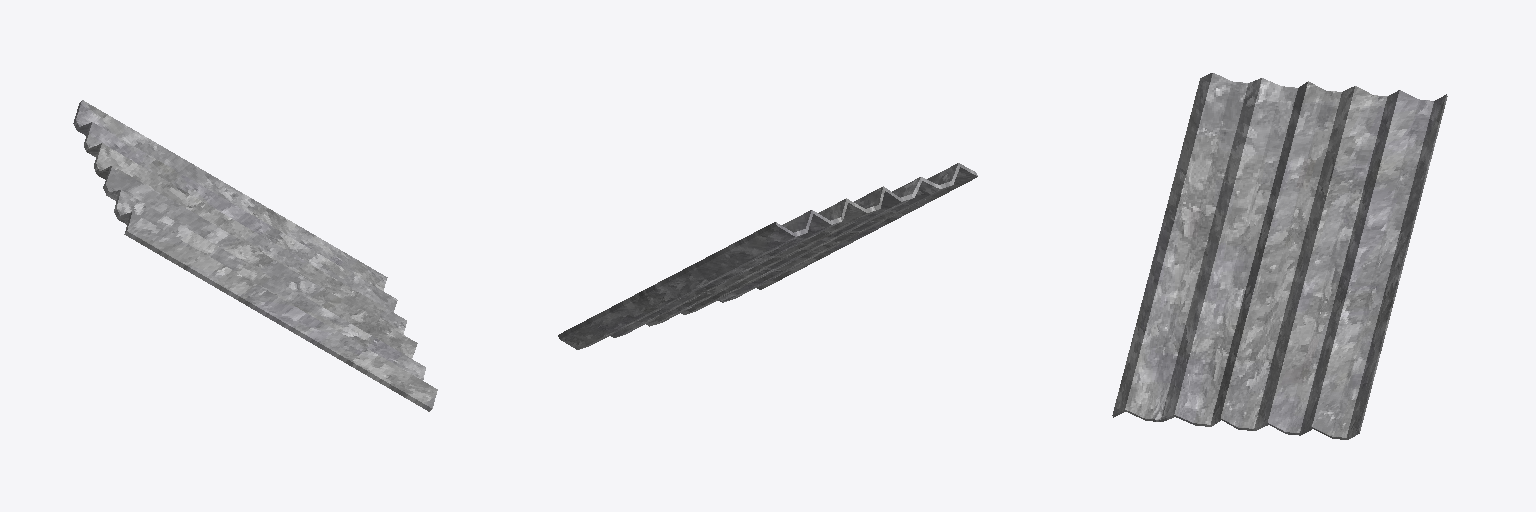
3 renders of one model, left to right at view 1: azimuth 30°, elevation 25°; view 2: azimuth 150°, elevation 25°; view 3: azimuth 270°, elevation 25°, orthographic.
Visible parts, largest first — view 1: Plane; view 2: Plane; view 3: Plane.
Boxes of the visible parts, x1=… form: Plane: x1=73, y1=100, x2=437, y2=411; Plane: x1=558, y1=163, x2=977, y2=349; Plane: x1=1112, y1=73, x2=1447, y2=439.
Bounding box in the file's own units: 10.88 × 7.14 × 9.23.
Materials: 1 (1 with a texture image).